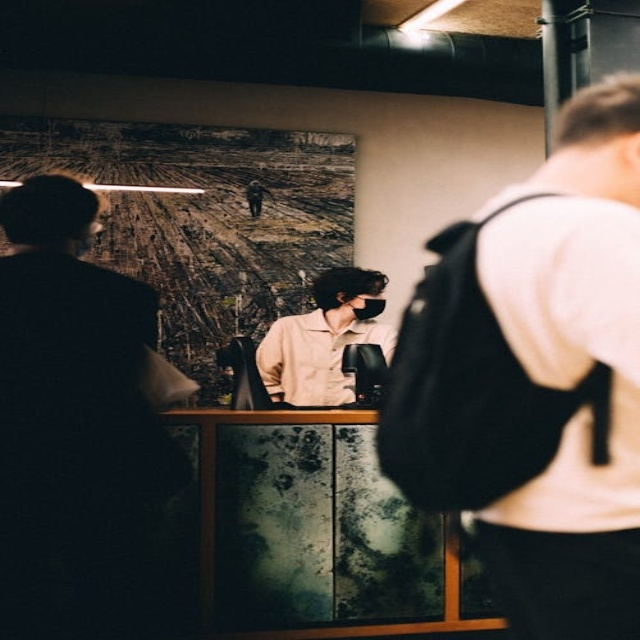Mascara: (72, 224, 100, 258), (349, 298, 386, 320)
